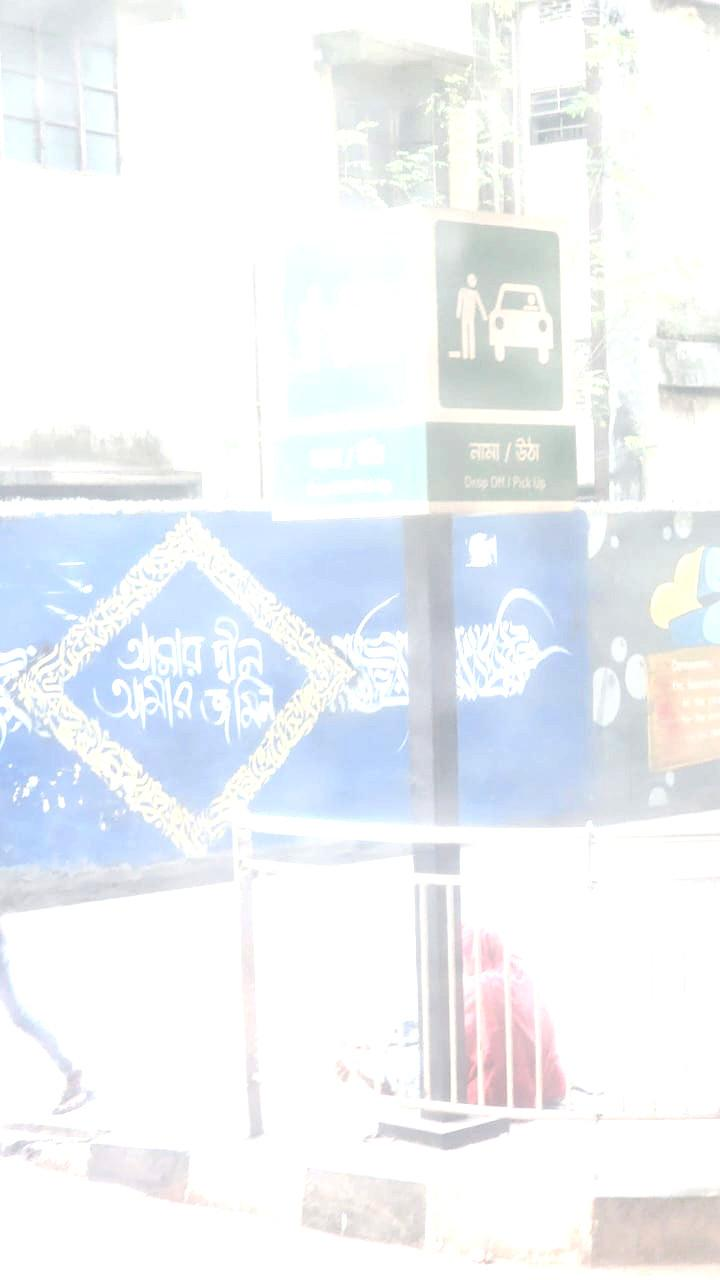Metro Dorp Up Pick up: (265, 206, 588, 508)
